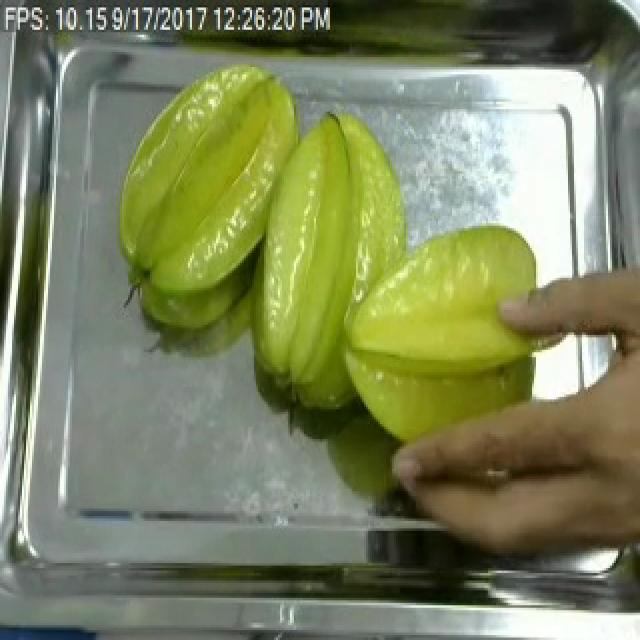fruit: (114, 91, 428, 426), (100, 47, 330, 313), (400, 357, 640, 581), (326, 218, 552, 454)
